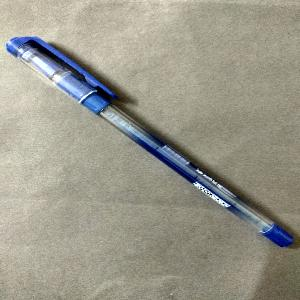pen: (5, 36, 300, 253)
